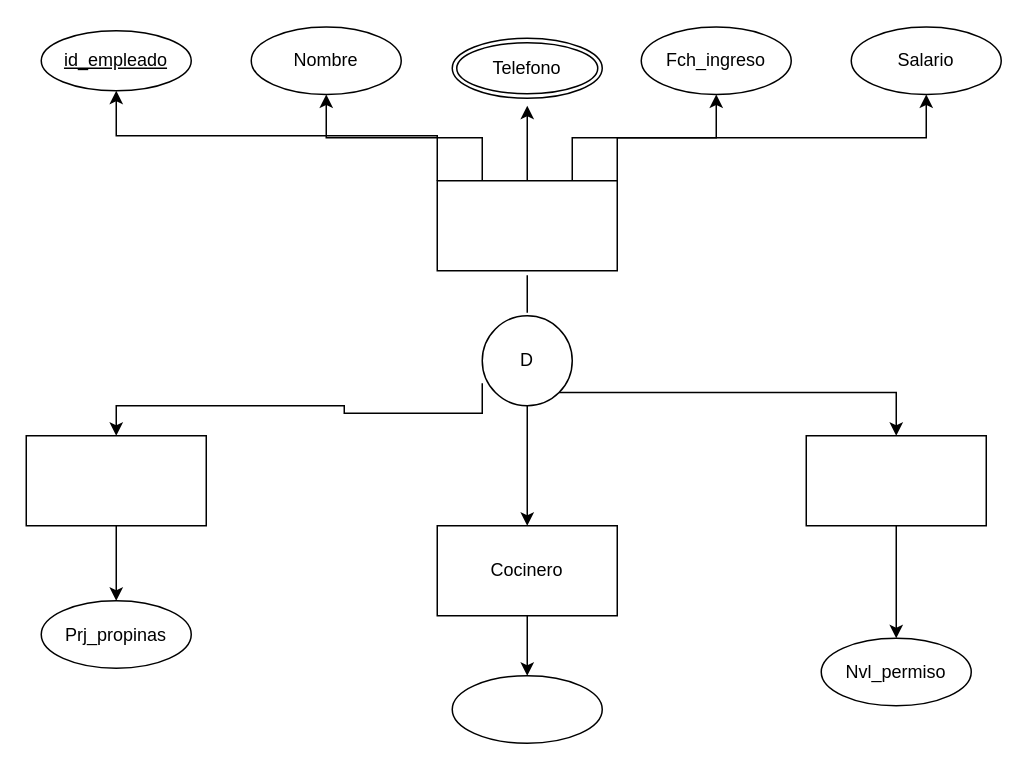
Some shapes in this 1028 by 770 pixel diagram are drawn without their labels. The shapes that lost their labels are listed below. From the top down, each one's centre as x and y in pixels, then its label:
At point 526,225: "Empleado".
At point 115,480: "Mesero".
At point 895,480: "Adminnistrador".
At point 526,708: "Especialidad".
